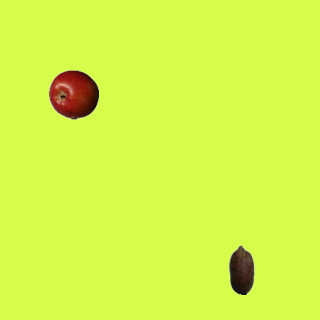Apple Braeburn: (48, 69, 98, 119)
Nut Pecan: (216, 244, 266, 294)
